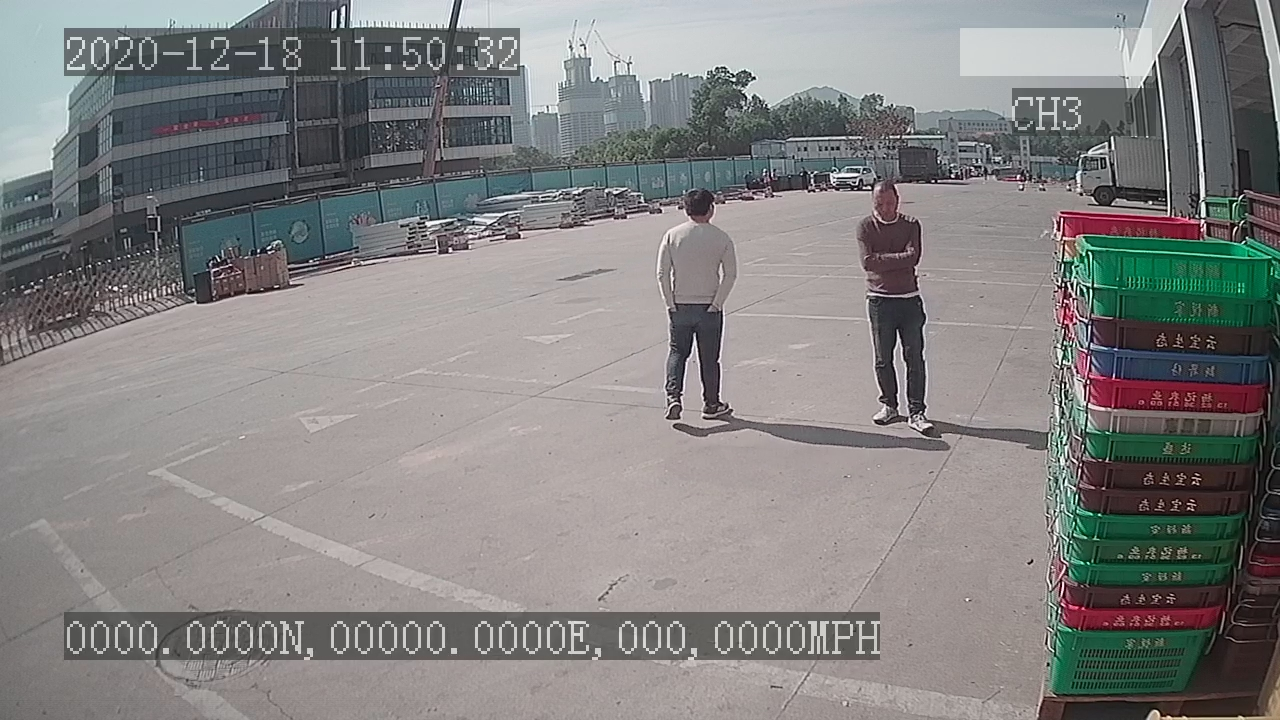person: (849, 176, 940, 435), (649, 183, 742, 429)
